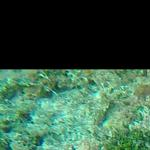dead: (8, 76, 146, 145)
